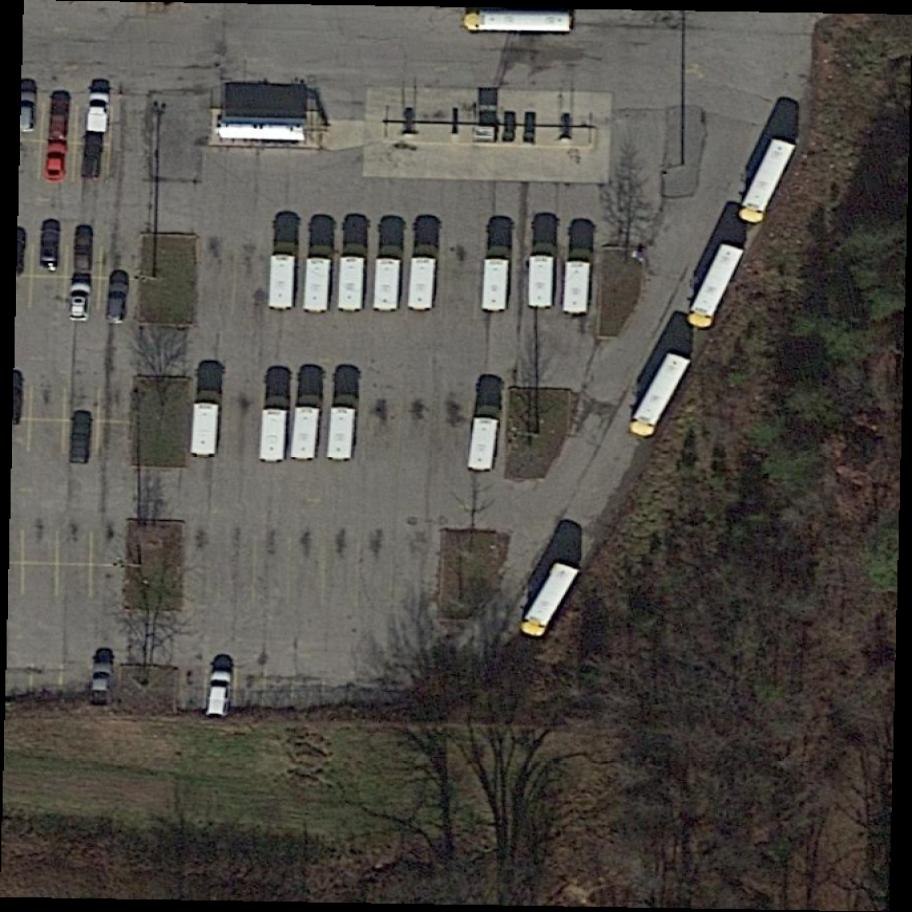large-vehicle: (627, 352, 691, 443), (737, 135, 799, 228), (686, 241, 746, 335), (518, 560, 581, 642), (461, 8, 582, 36), (468, 402, 503, 475), (190, 390, 225, 459), (267, 242, 299, 310), (481, 246, 513, 314), (259, 397, 291, 465), (291, 394, 322, 462), (328, 395, 359, 462), (339, 244, 368, 314), (374, 245, 403, 314), (562, 251, 592, 316), (303, 247, 332, 314), (409, 246, 436, 312), (529, 246, 553, 310)
small-vehicle: (205, 667, 237, 721), (101, 279, 132, 326), (89, 662, 116, 707), (85, 90, 112, 134), (47, 97, 72, 143), (41, 141, 69, 182), (39, 227, 62, 276), (71, 227, 94, 272), (68, 282, 92, 324), (80, 140, 104, 179), (70, 420, 90, 466)
